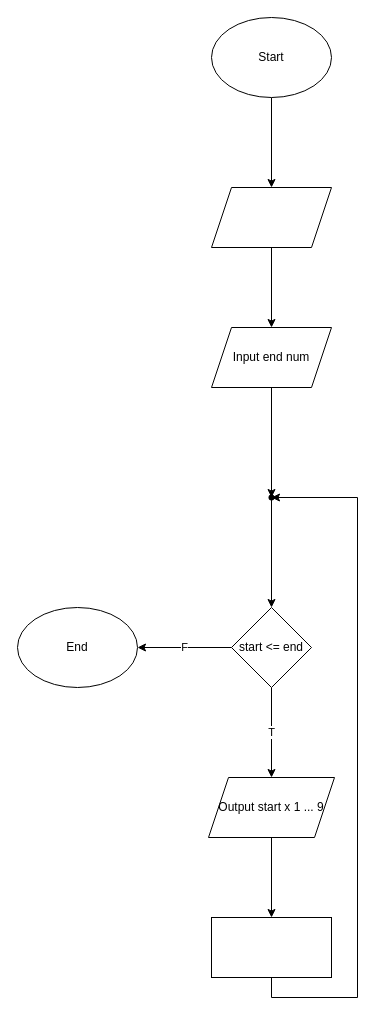
This 383x1023 diagram has some shape labels left out. Each missing label, with the centre of its shape:
"Input start num" goes at (271,217).
"start + 1" goes at (271,947).
